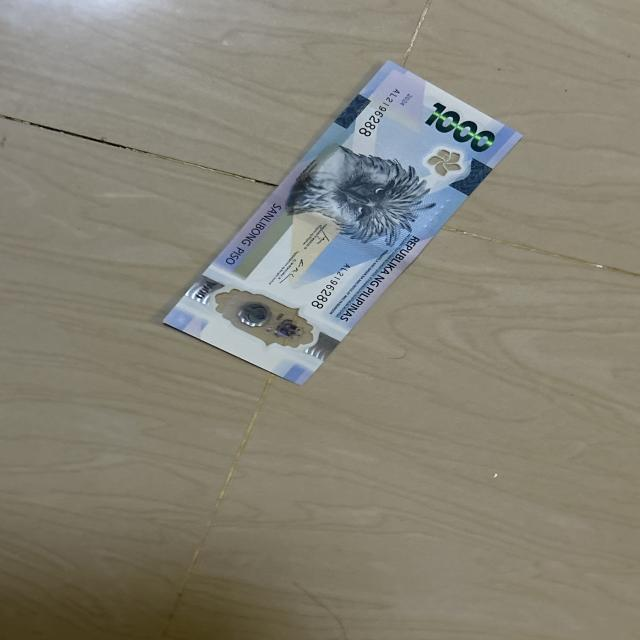clear_window: (200, 287, 320, 346)
eagle: (297, 148, 419, 245)
sampaguita: (428, 148, 460, 178)
